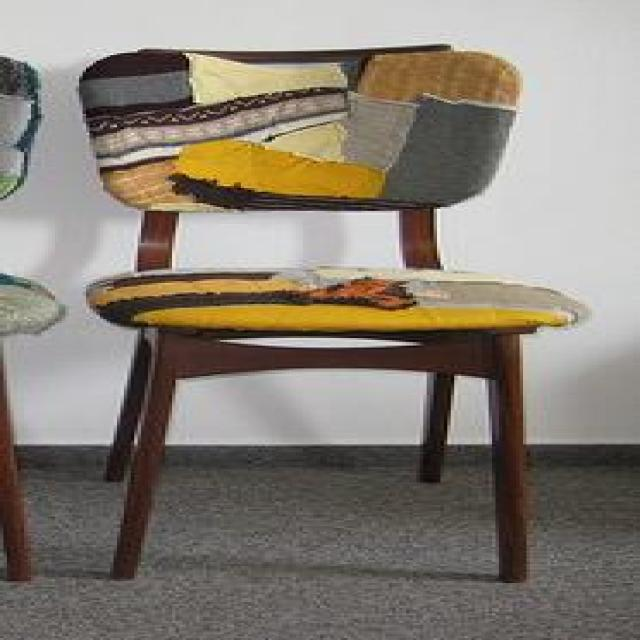chair: (77, 43, 583, 586)
